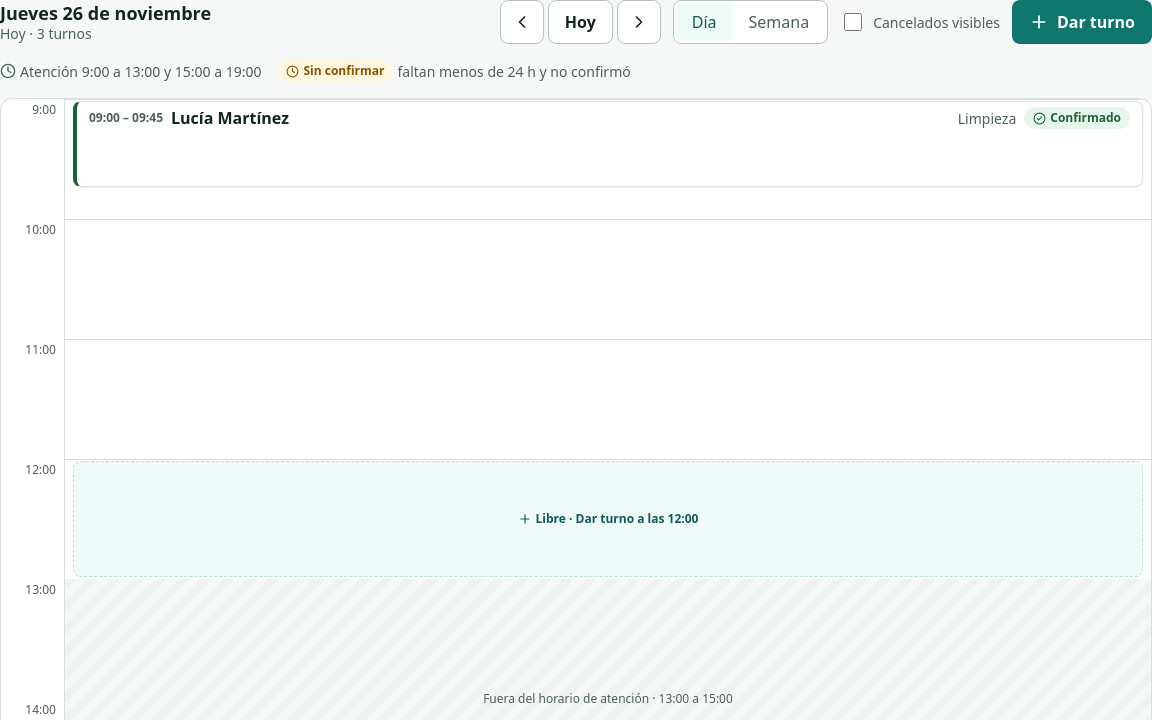
Test: vista dia › ofrece los huecos libres de lo que queda del dia y abre el alta con esa hora
Check: the element "Día Semana" is shown, box top-left (673, 0), bottom-right (828, 44)
Click the button "Libre · Dar turno a las 12:00" at (608, 519), box top-left (73, 461), bottom-right (1143, 577)
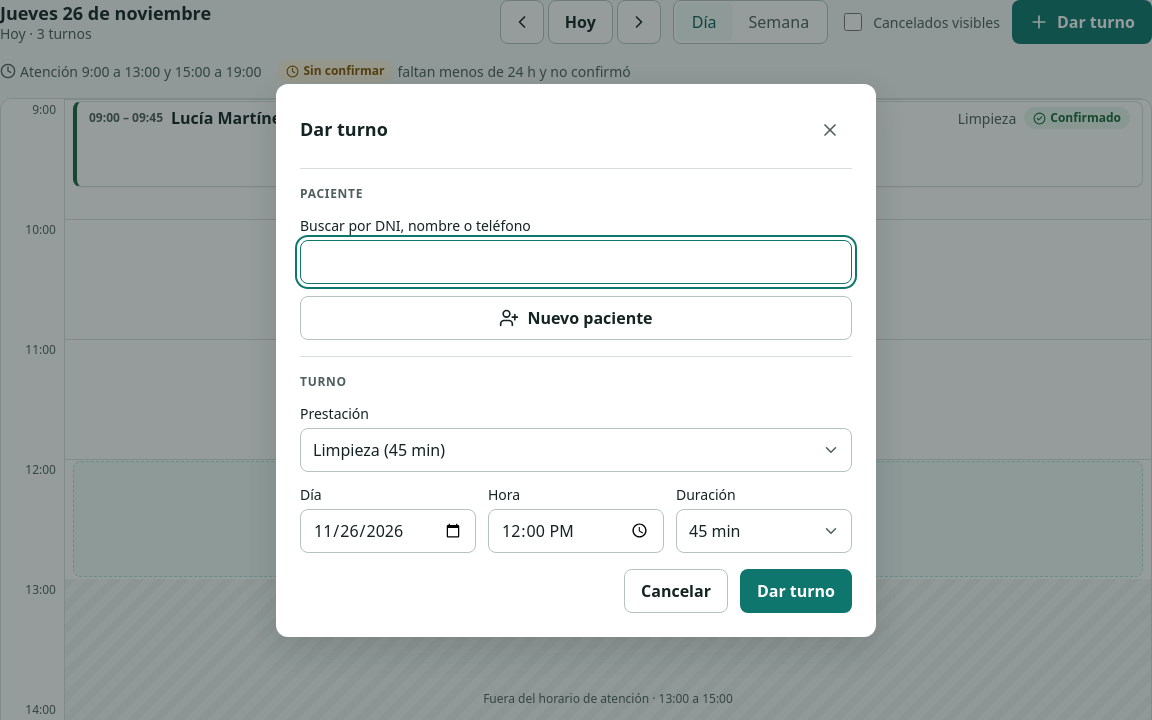
Check: the time field labelled "Hora" holds "12:00", box top-left (488, 508), bottom-right (664, 552)
